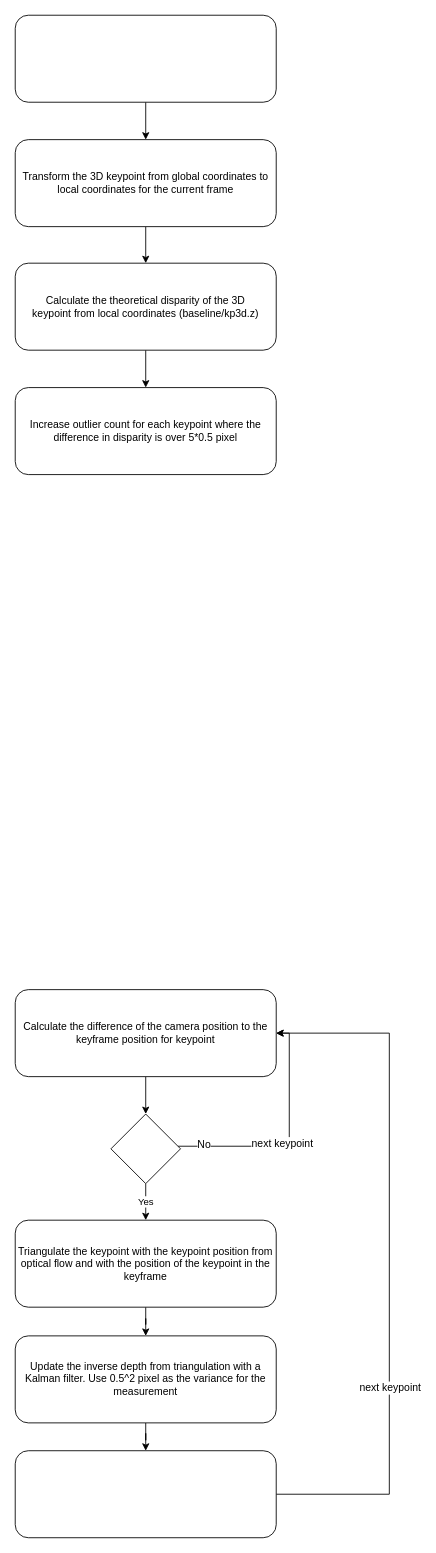
Some shapes in this 436 by 1553 pixel diagram are drawn without their labels. Each missing label, with the centre of its shape:
"Calculate the disparity for each keypoint based on the stereo image" goes at (x=145, y=58).
"Is the change > 10cm" goes at (x=145, y=1148).
"Transfrom the ouput from the Kalman filter back into global coordinates" goes at (x=145, y=1494).
